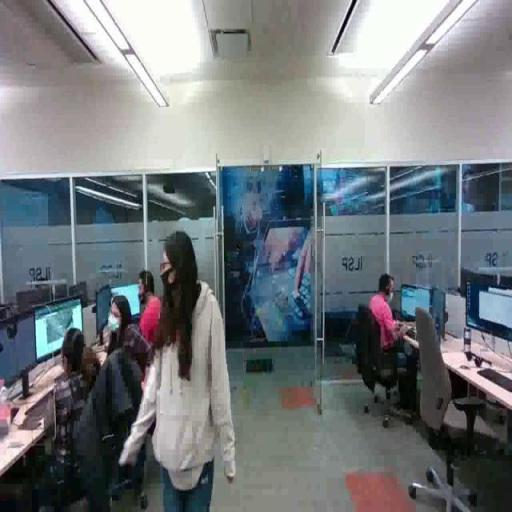person: (114, 226, 237, 512), (38, 329, 113, 504), (359, 262, 426, 404), (126, 259, 174, 381), (102, 281, 139, 430)
